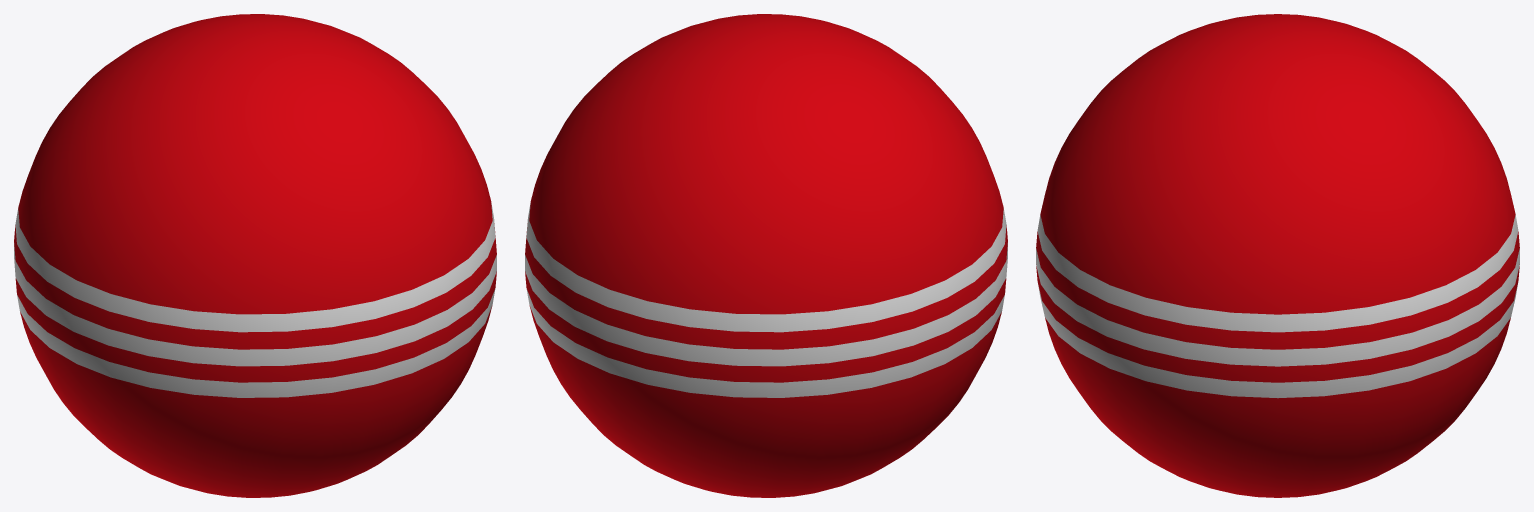
The model's file is ball_red.fbx.
3 views of the same model, side by side, from view 1: azimuth 30°, elevation 25°; view 2: azimuth 150°, elevation 25°; view 3: azimuth 270°, elevation 25° (orthographic).
Parts seen in each view (by area): view 1: Sphere.008; view 2: Sphere.008; view 3: Sphere.008.
Part boxes in pixels (box(x1,y1,x2,y2)): Sphere.008: box(14, 14, 496, 497); Sphere.008: box(525, 14, 1007, 497); Sphere.008: box(1036, 14, 1519, 497).
Size of the model in its own units: 887 by 888 by 887.
